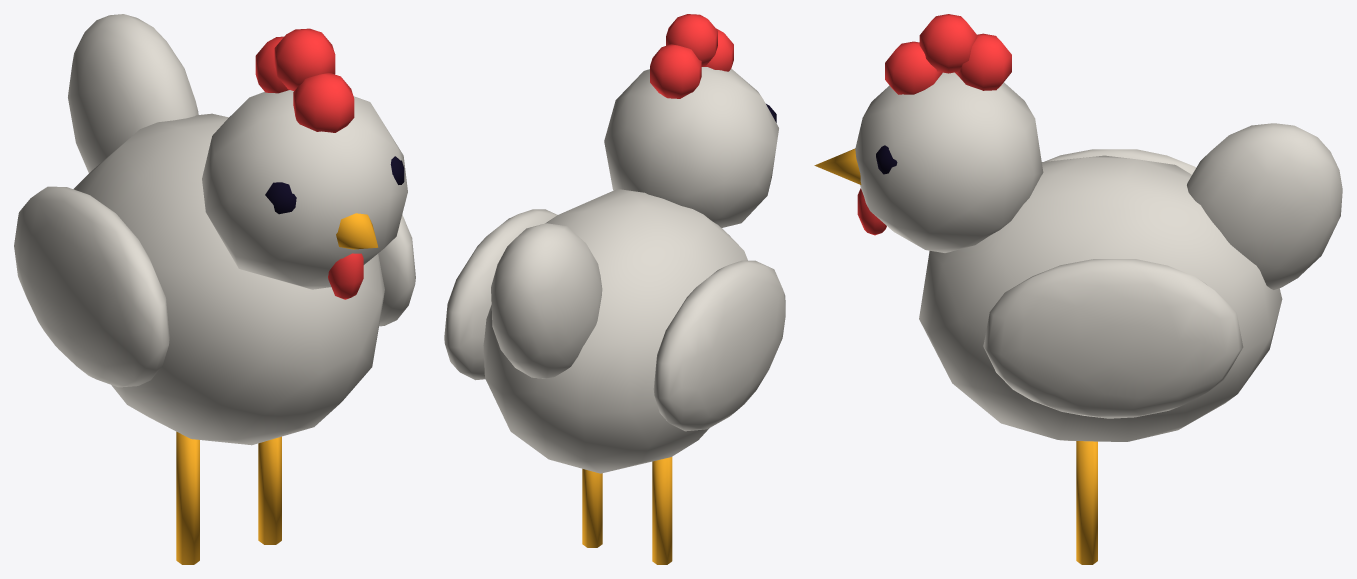
The model's file is b_chicken.glb.
3 views of the same model, side by side, from view 1: azimuth 30°, elevation 25°; view 2: azimuth 150°, elevation 25°; view 3: azimuth 270°, elevation 25° (orthographic). The views are drawn at different scales.
Visible parts, largest first — view 1: Sphere; view 2: Sphere; view 3: Sphere.
Part boxes in pixels (left/top/right/bottom): Sphere: left=14, top=14, right=415, bottom=564; Sphere: left=444, top=14, right=785, bottom=564; Sphere: left=814, top=14, right=1342, bottom=564.
Size of the model in its own units: 0.7599 by 1.34 by 1.22.
